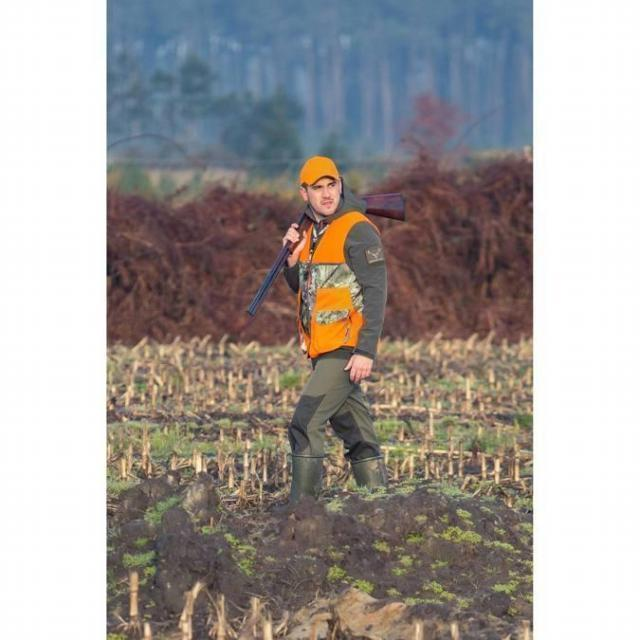no-helmet: (299, 152, 347, 202)
vest: (286, 204, 391, 356)
